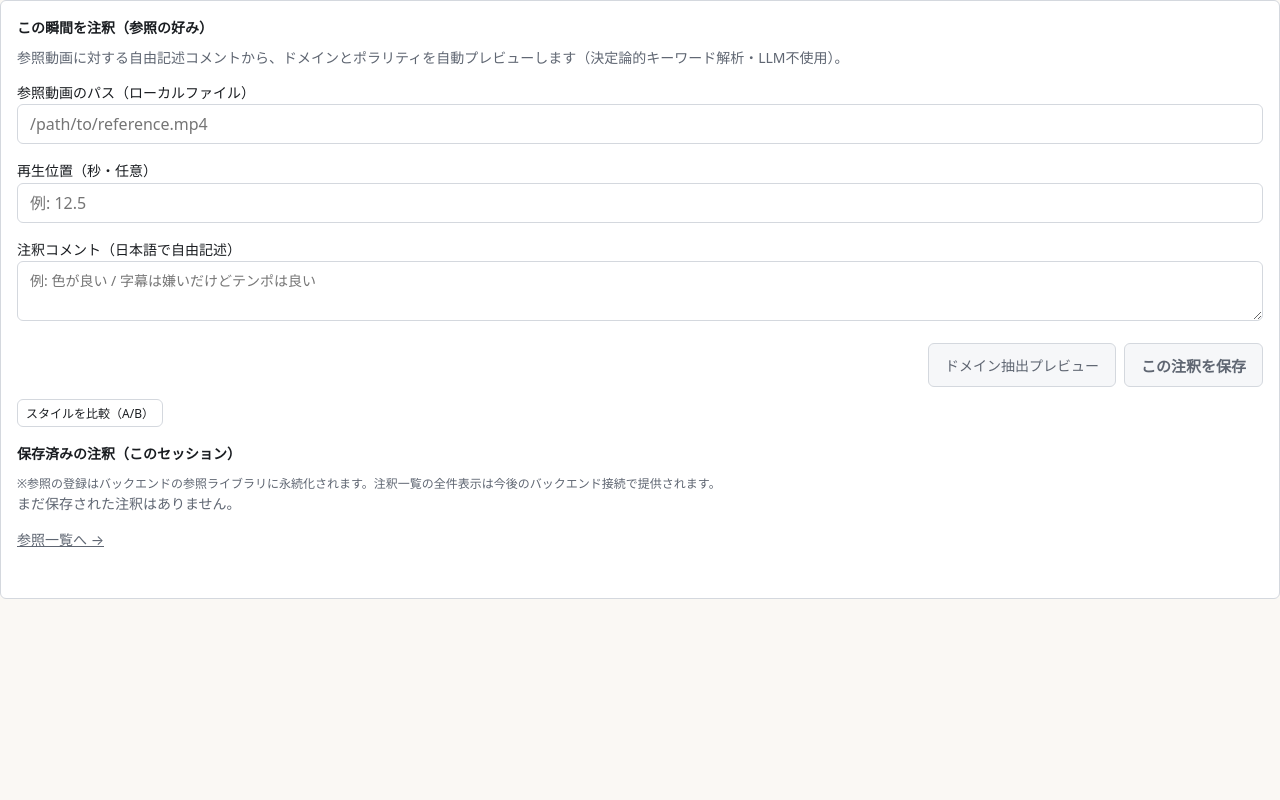
Test case: ReferenceAnnotator（注釈→抽出→修正→保存） › コメントからドメイン抽出プレビューが色付きチップで表示される
In the text box labelled "注釈コメント（日本語で自由記述）": x=640, y=291 [17,261,1263,321], type "色が良い"
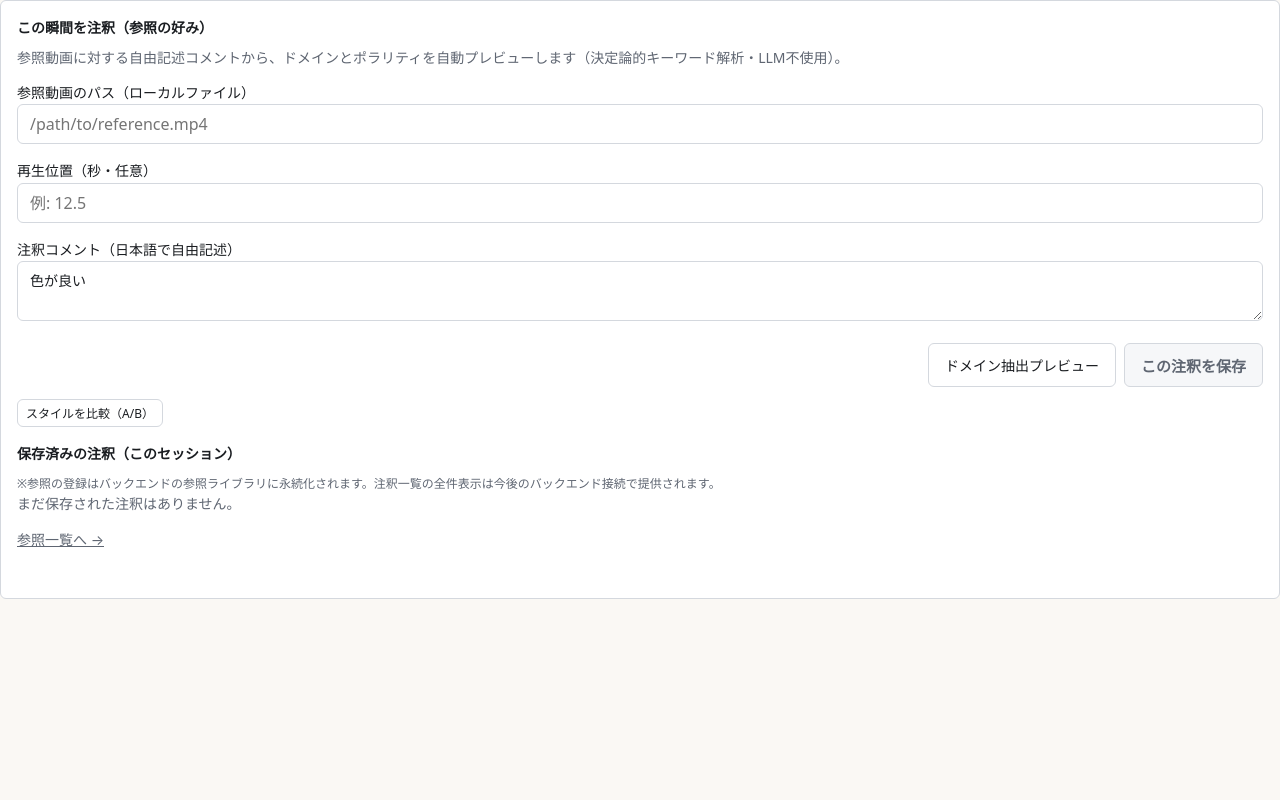
Click the button with test id "parse-preview-button": x=1022, y=365 [928,343,1116,387]
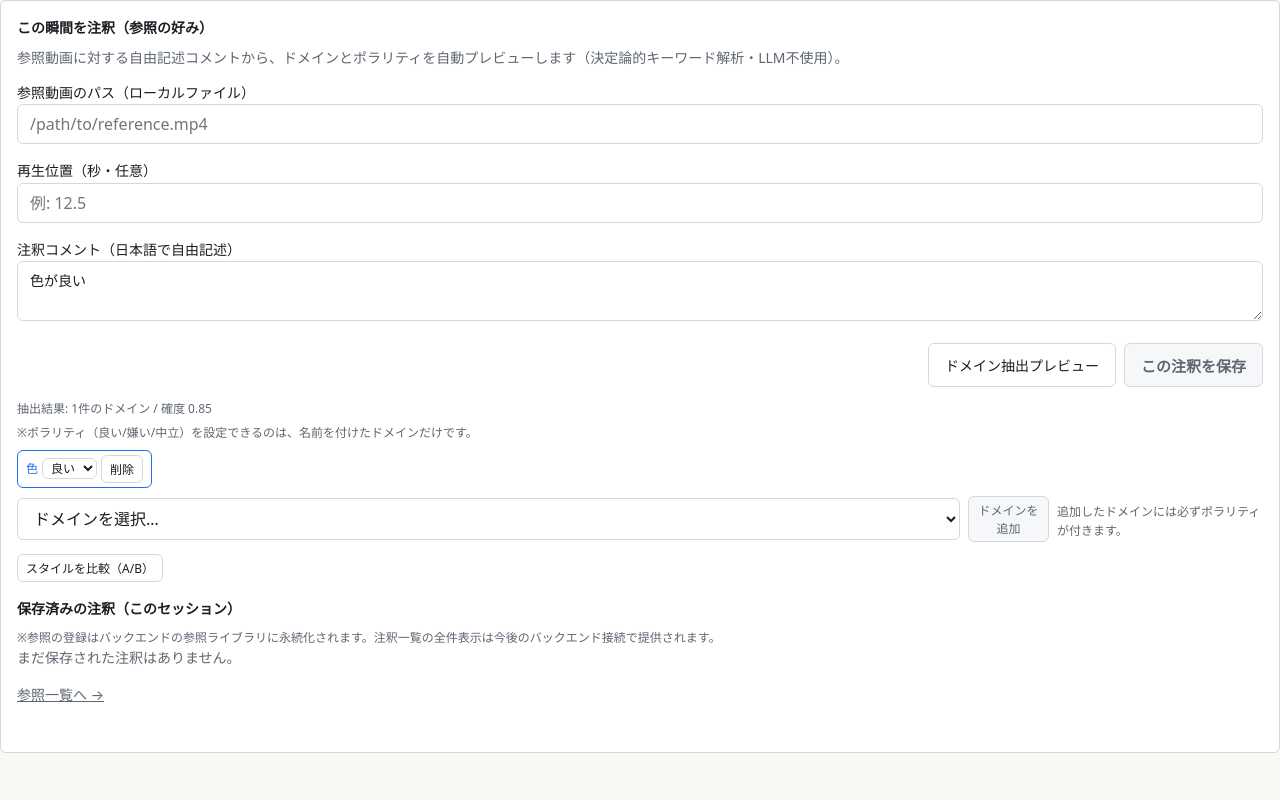
Expected: the element with test id "domain-chip-color" is shown, [17,450,152,488]
Expected: the dropdown with test id "polarity-select-color" shows "良い", [42,458,97,479]
Expected: the text with test id "domain-scope-rule" shows "名前を付けたドメインだけ", [17,424,478,440]
